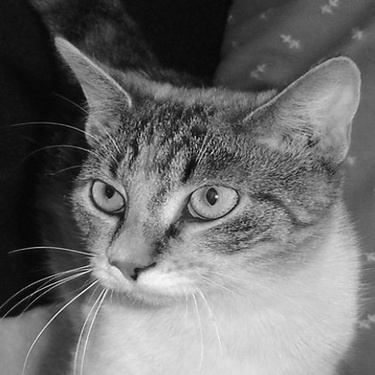cat: (44, 33, 362, 373)
